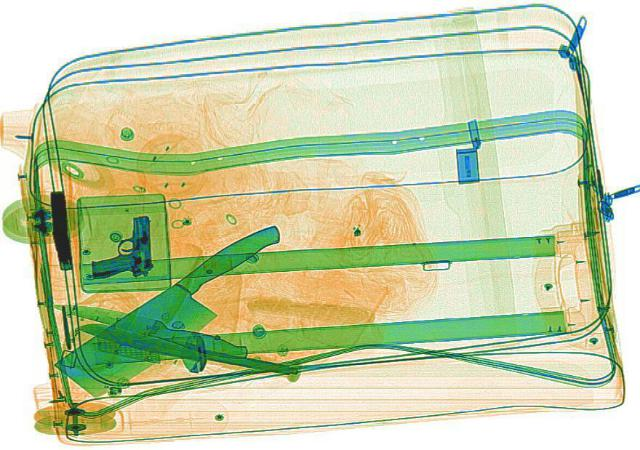Gun: (83, 213, 155, 277), (46, 191, 72, 267)
Knife: (45, 219, 318, 396), (39, 290, 252, 361), (74, 317, 292, 378)
